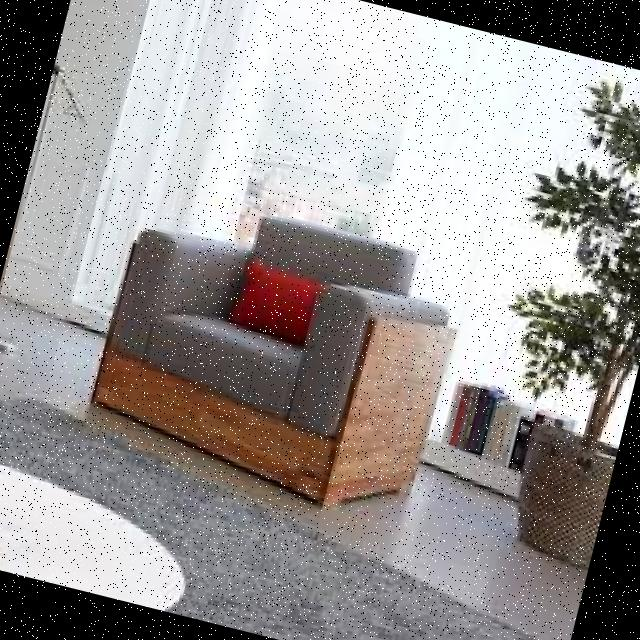Sofa: (44, 160, 508, 531)
